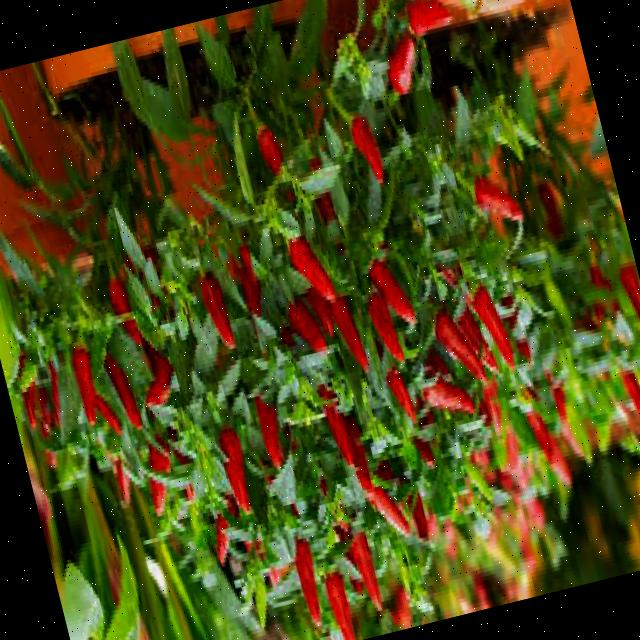healthy: (42, 49, 603, 640)
